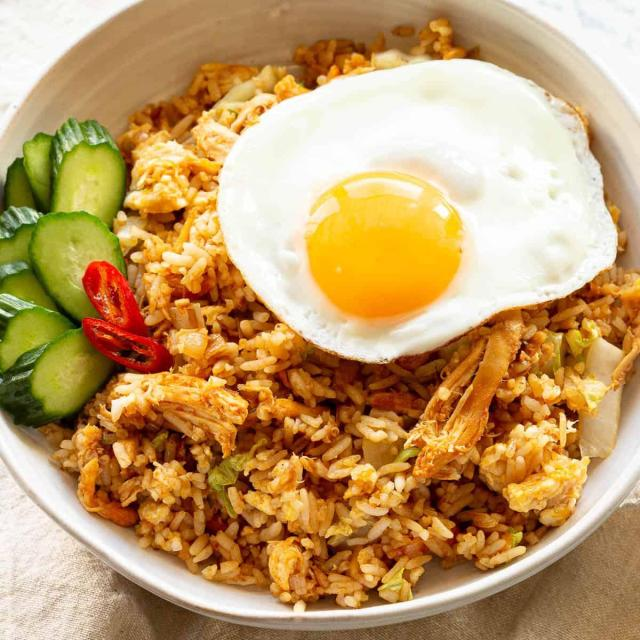Nasi Goreng: (123, 58, 617, 570)
